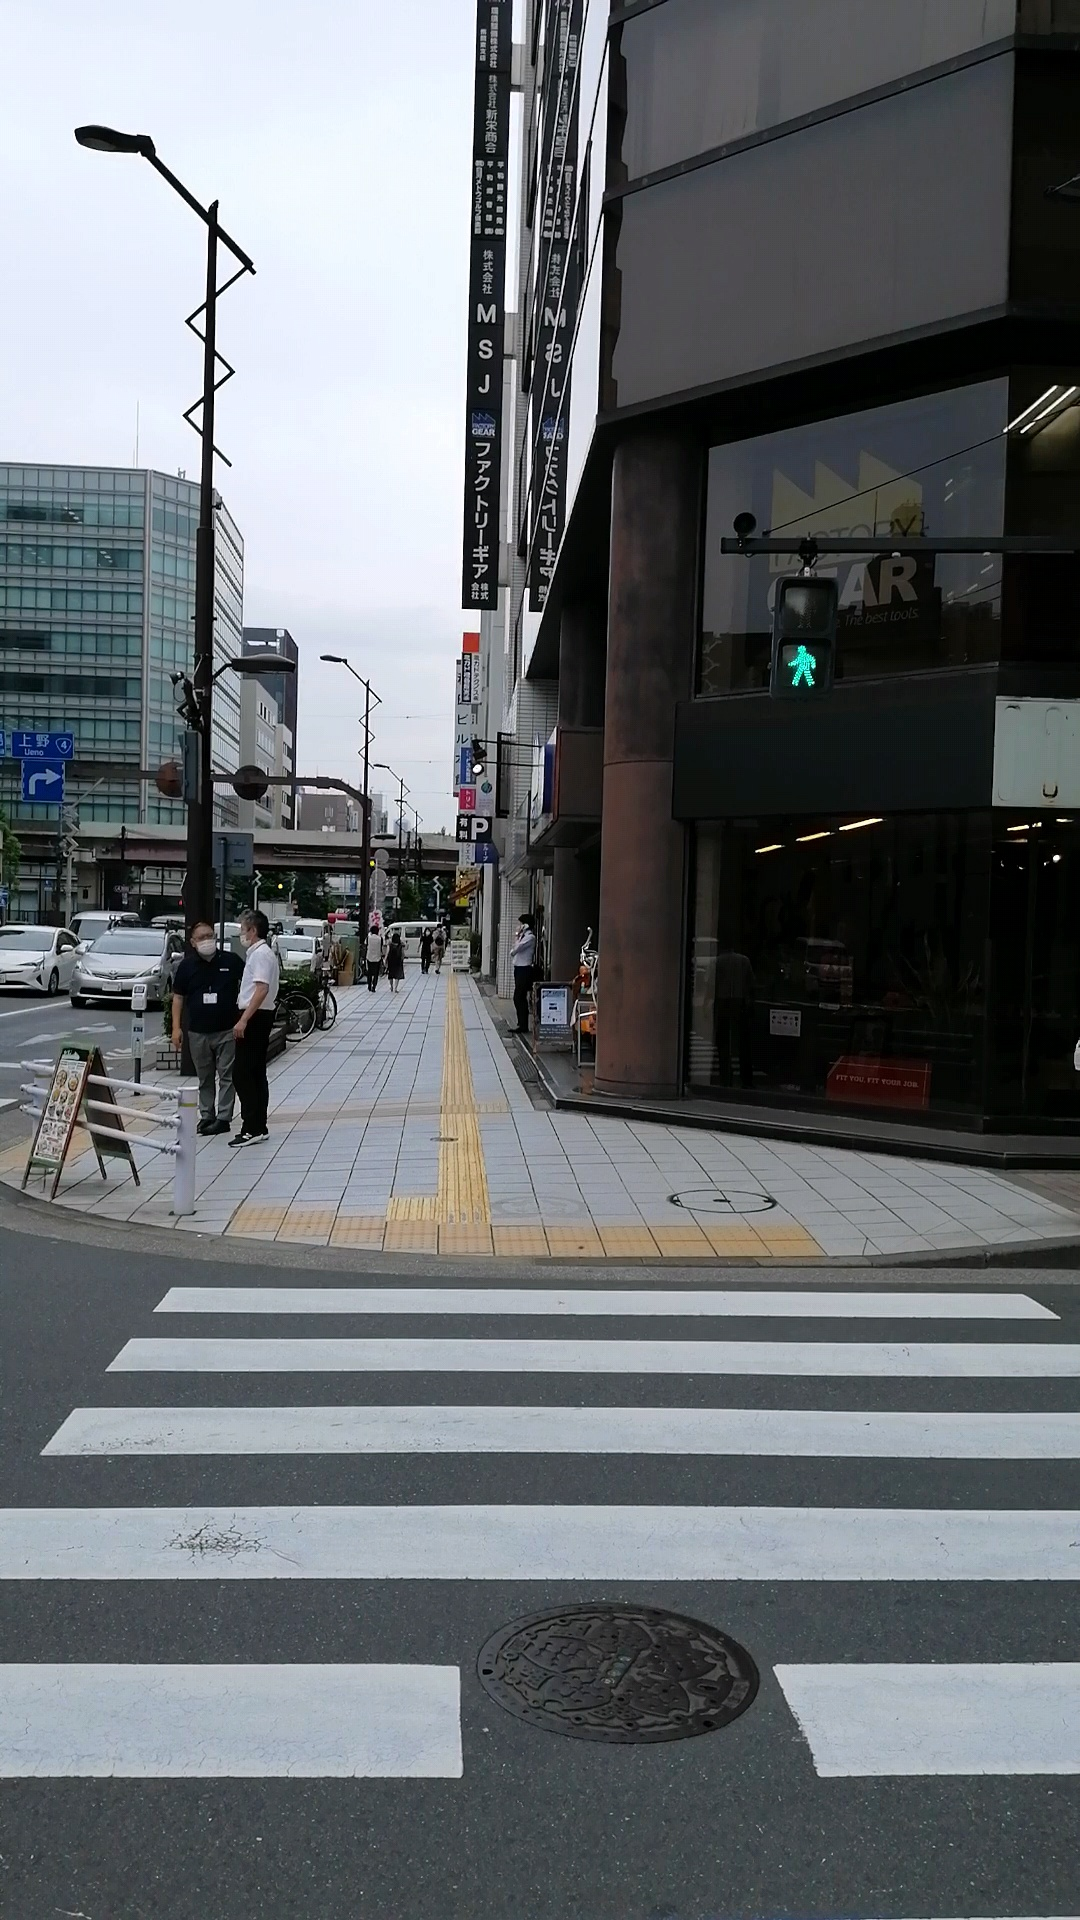green: (770, 576, 836, 705)
